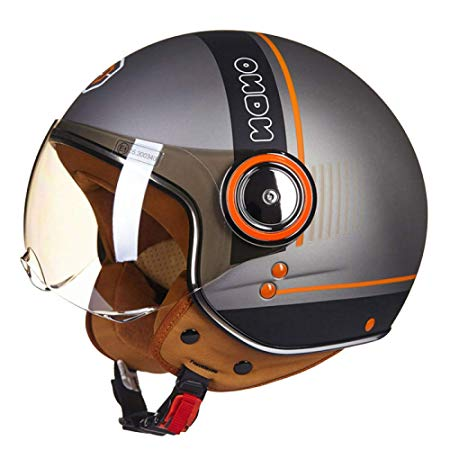with_helmet: (15, 30, 424, 356)
